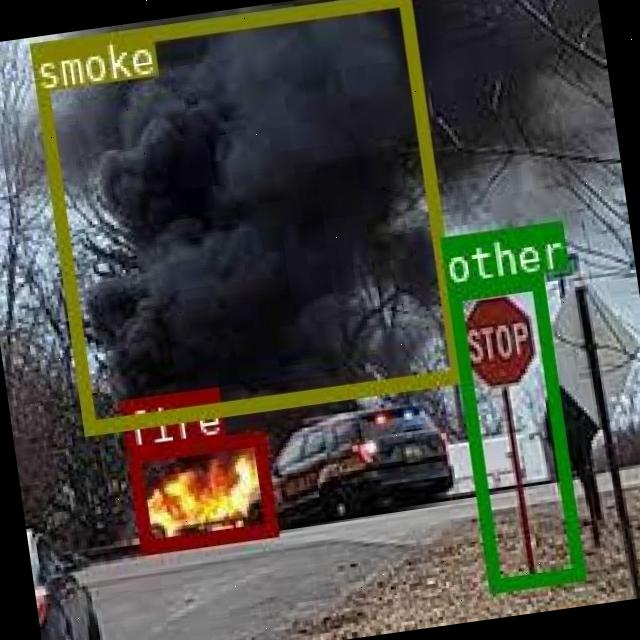fire: (125, 429, 276, 552)
smoke: (27, 0, 462, 431)
